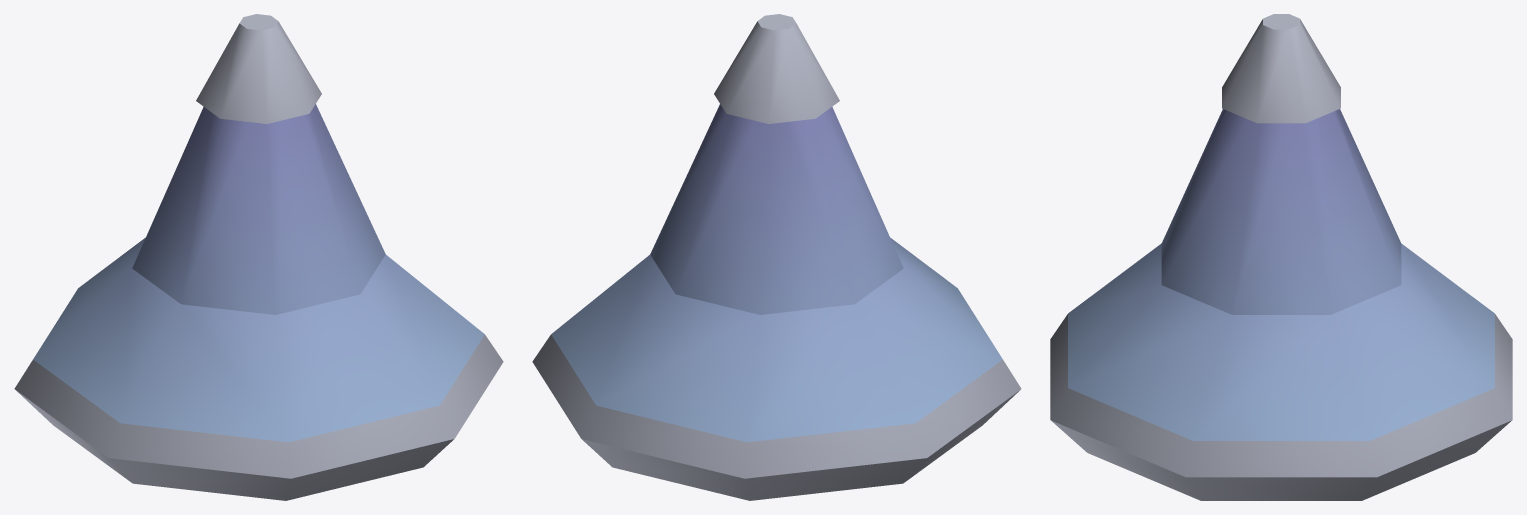
The model's file is tower-roof.glb.
3 views of the same model, side by side, from view 1: azimuth 30°, elevation 25°; view 2: azimuth 150°, elevation 25°; view 3: azimuth 270°, elevation 25° (orthographic).
Parts seen in each view (by area): view 1: tower-roof; view 2: tower-roof; view 3: tower-roof.
Part boxes in pixels (bbox=[...]): tower-roof: bbox=[14, 14, 503, 500]; tower-roof: bbox=[532, 14, 1021, 500]; tower-roof: bbox=[1050, 14, 1512, 500].
Size of the model in its own units: 3.63 by 3.44 by 3.63.
